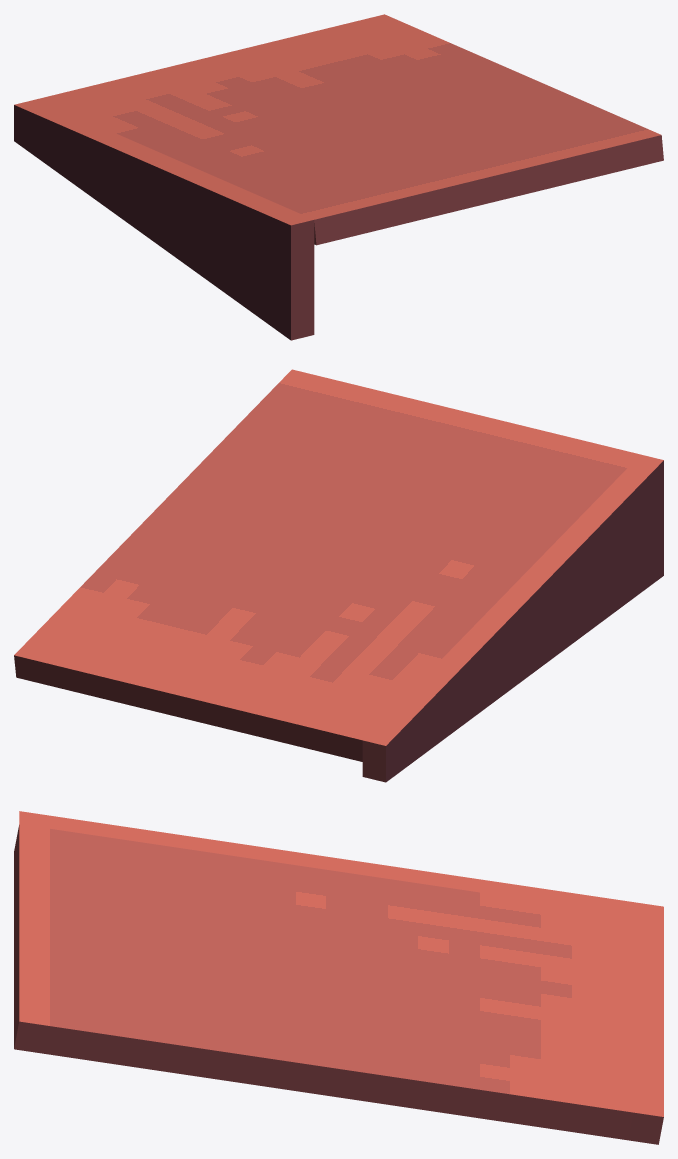
Rendered from p31_roof_lh.obj.
The picture shows the model from 3 angles, top to bottom: view 1: azimuth 30°, elevation 25°; view 2: azimuth 150°, elevation 25°; view 3: azimuth 270°, elevation 25°; orthographic projection. The views are drawn at different scales.
Parts seen in each view (by area): view 1: cube; view 2: cube; view 3: cube.
Part boxes in pixels (box(x1,y1,x2,y2)): cube: box(14, 14, 663, 340); cube: box(14, 369, 663, 782); cube: box(14, 811, 663, 1144).
Size of the model in its own units: 1 by 0.3054 by 1.31.
